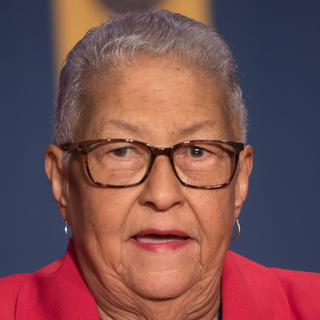eye: (99, 141, 143, 163), (182, 141, 222, 164)
